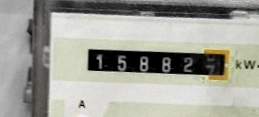1: (94, 51, 105, 70)
2: (182, 54, 194, 72)
5: (115, 53, 128, 71)
7: (203, 62, 215, 76)
8: (138, 53, 150, 71), (161, 55, 172, 72)
screen: (79, 36, 236, 85)
